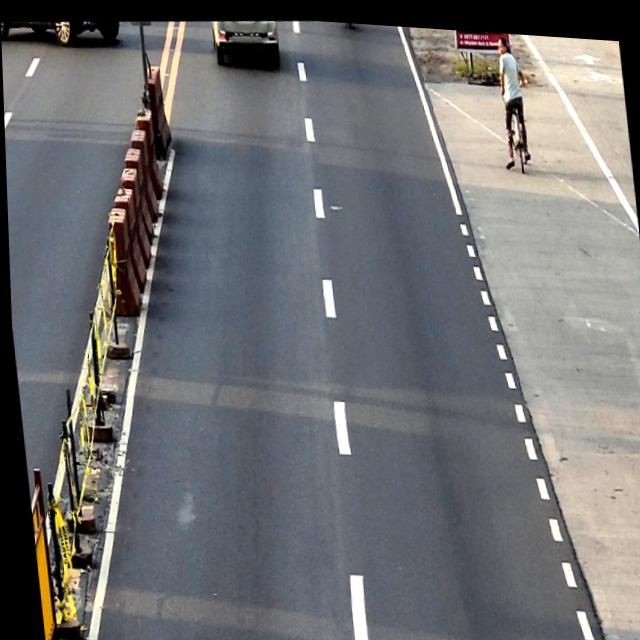Bicycle: (502, 86, 531, 169)
Car: (210, 13, 282, 75)
